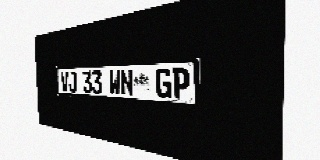3: (92, 70, 102, 94), (82, 71, 92, 93)
G: (155, 68, 172, 99)
J: (68, 71, 77, 92)
N: (120, 69, 133, 96)
P: (172, 67, 190, 100)
V: (61, 72, 69, 92)
W: (109, 70, 121, 95)
